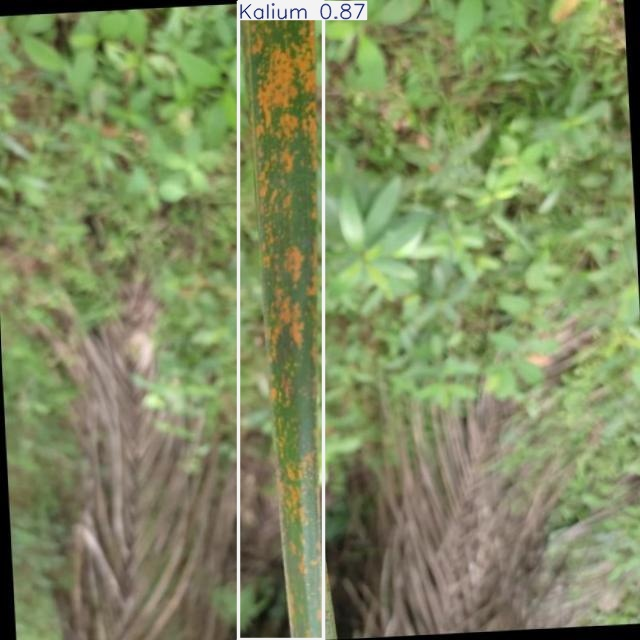Kalium: (239, 1, 323, 640)
